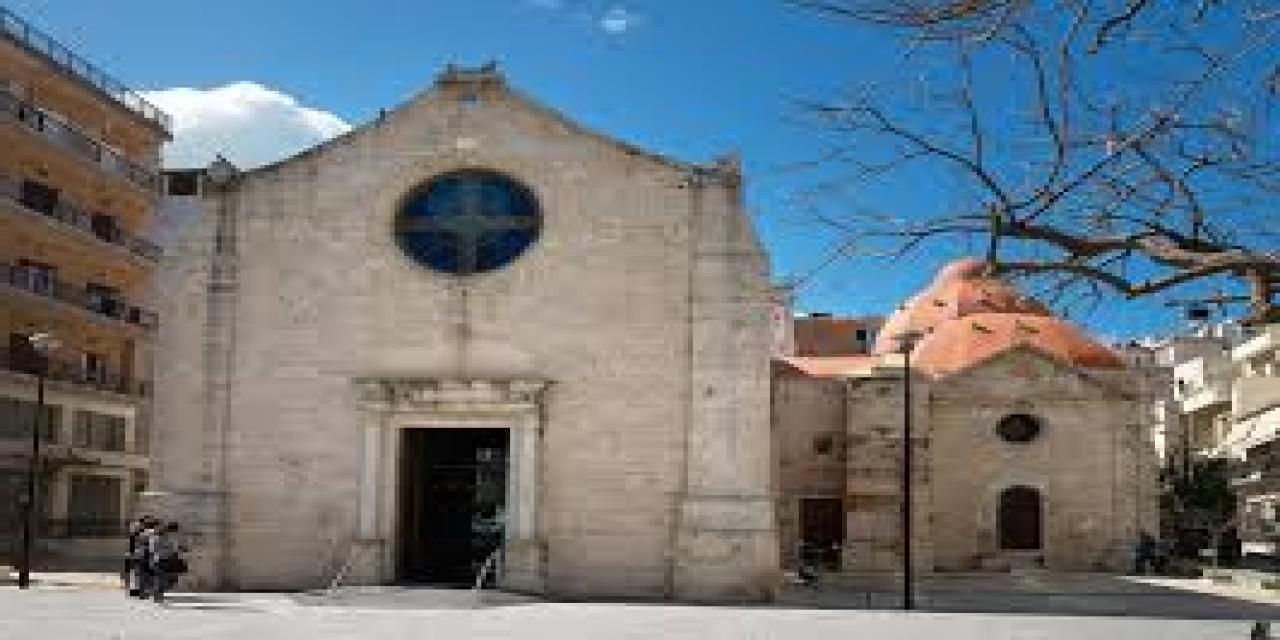Agia Aikaterini: (140, 62, 1157, 600)
